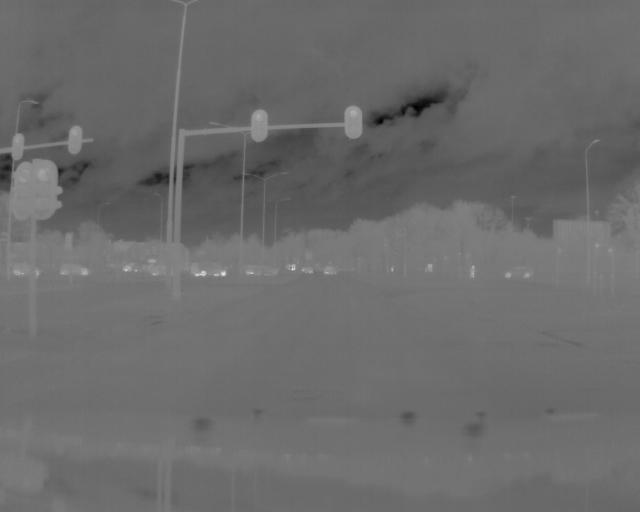car: (58, 257, 93, 277), (192, 260, 229, 278), (501, 266, 535, 282)
person: (468, 261, 476, 282)
